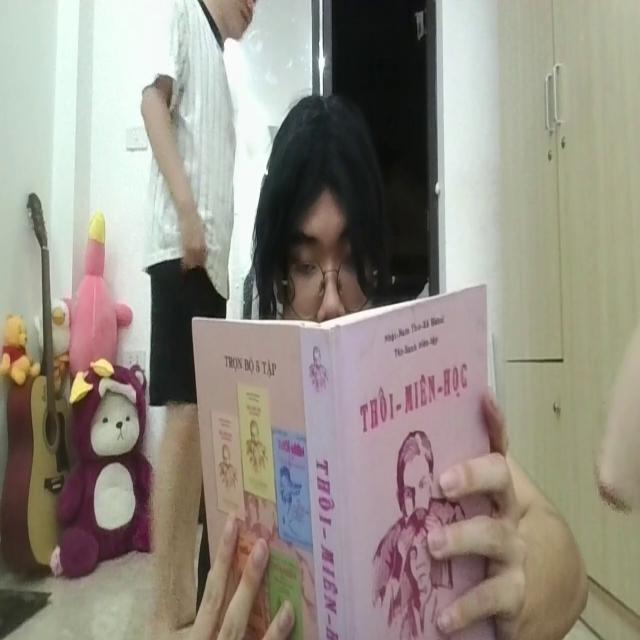book: (191, 283, 498, 640)
extra_person: (138, 0, 258, 640)
student: (248, 85, 394, 318)
